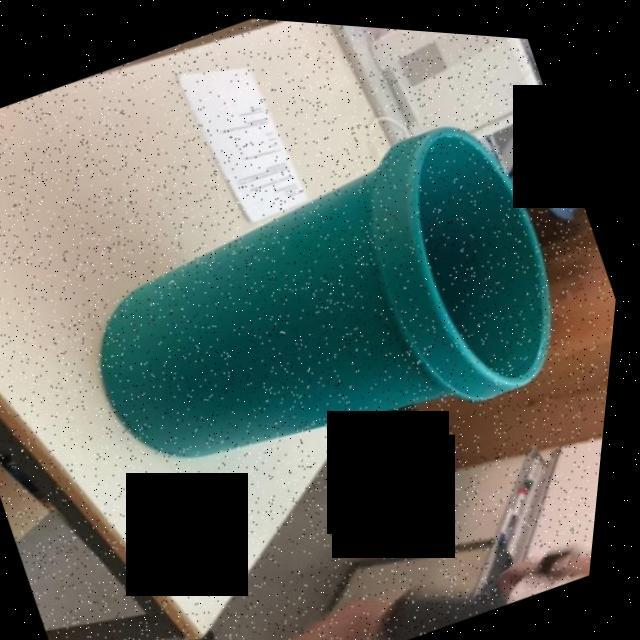bin: (27, 39, 632, 552)
